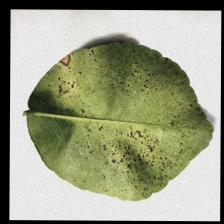canker: (60, 50, 188, 186)
